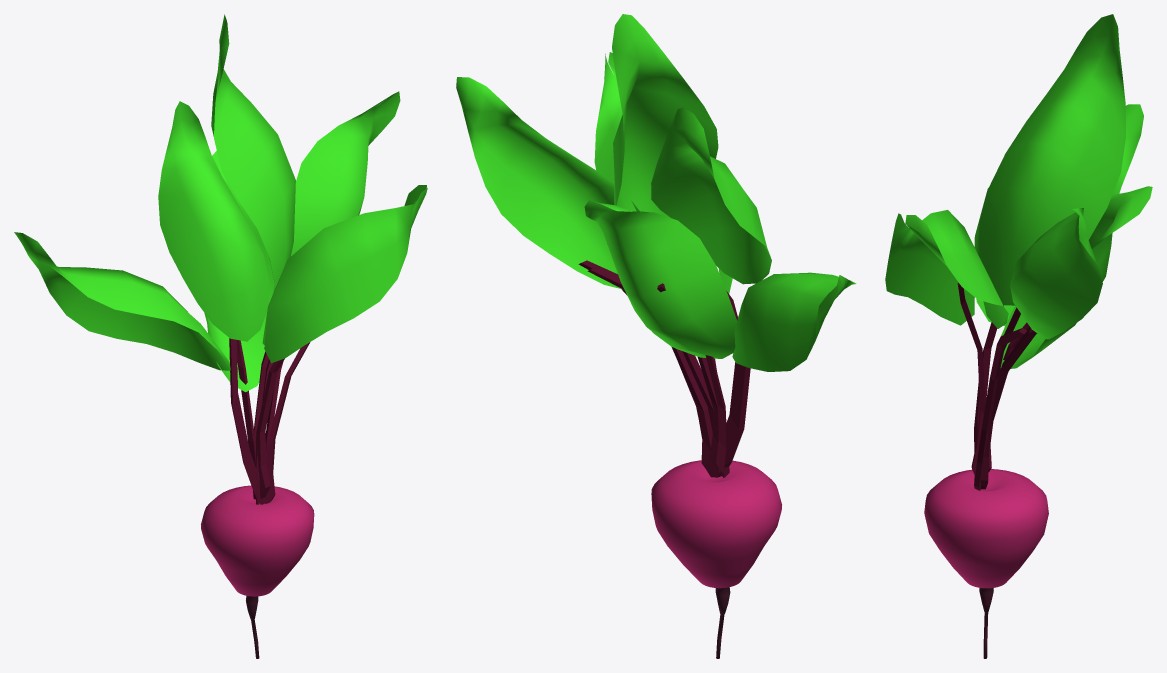
File: beedroot.fbx
The picture shows the model from 3 angles, left to right: view 1: azimuth 30°, elevation 25°; view 2: azimuth 150°, elevation 25°; view 3: azimuth 270°, elevation 25°; orthographic projection. The views are drawn at different scales.
Visible parts, largest first — view 1: Plane.003; view 2: Plane.003; view 3: Plane.003.
Boxes of the visible parts, <box> form: Plane.003: <box>14,14,427,658</box>; Plane.003: <box>456,14,856,658</box>; Plane.003: <box>885,14,1152,658</box>.
Bounding box in the file's own units: 155 × 247 × 90.97.
